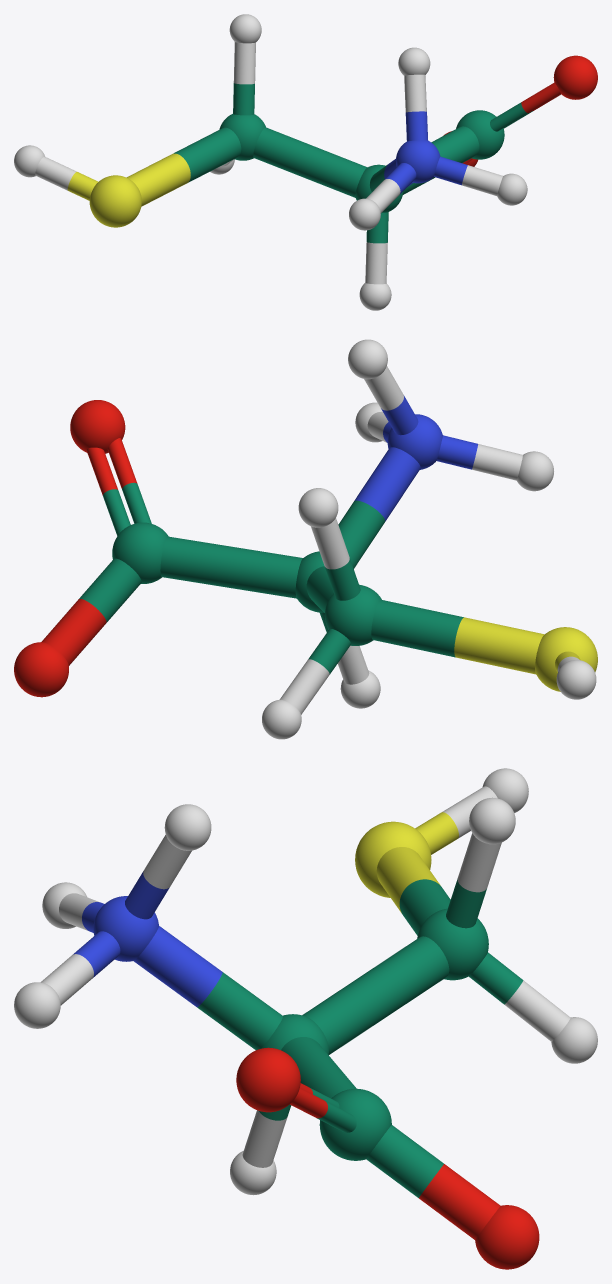
The model's file is CYS.PDB.glb.
3 views of the same model, one above another, from view 1: azimuth 30°, elevation 25°; view 2: azimuth 150°, elevation 25°; view 3: azimuth 270°, elevation 25° (orthographic). The views are drawn at different scales.
Bounding box in the file's own units: 5.93 × 3.1 × 4.12.
